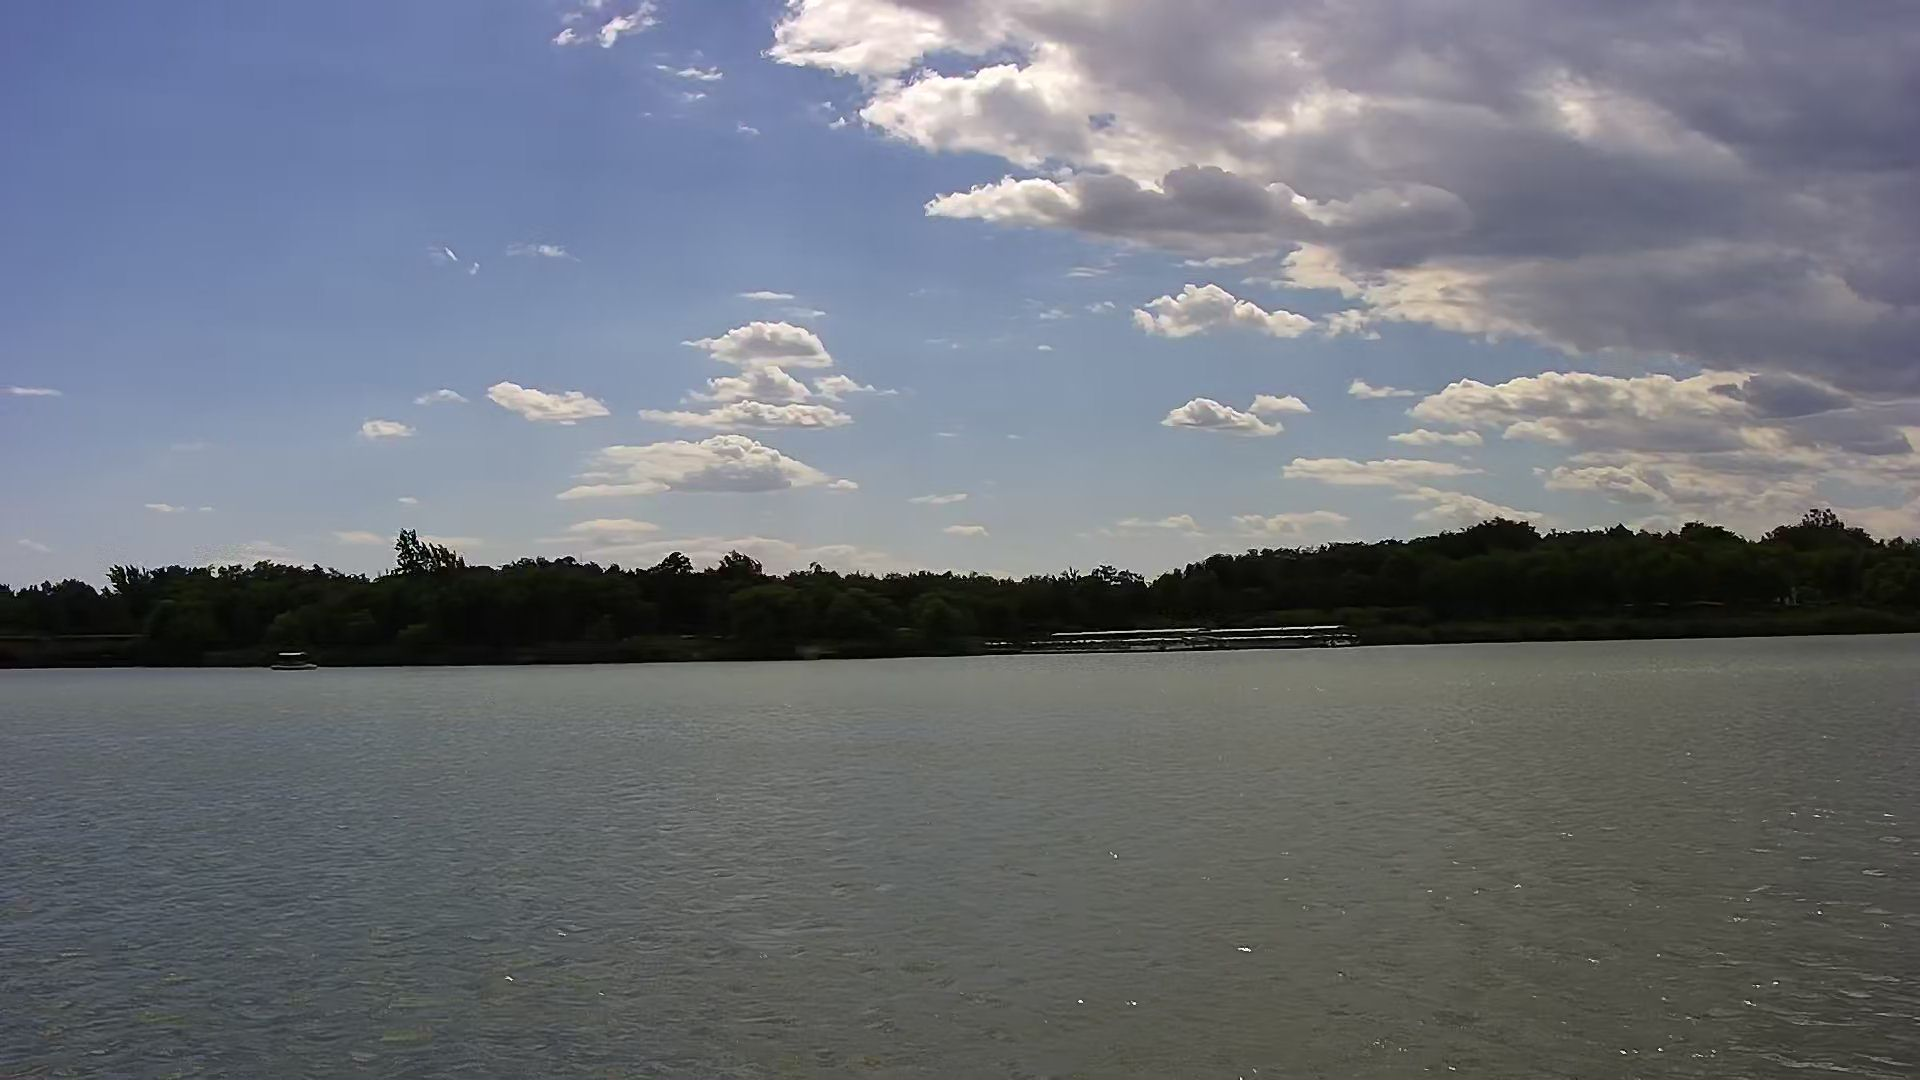boat: (268, 644, 320, 674)
harbor: (986, 624, 1356, 657)
